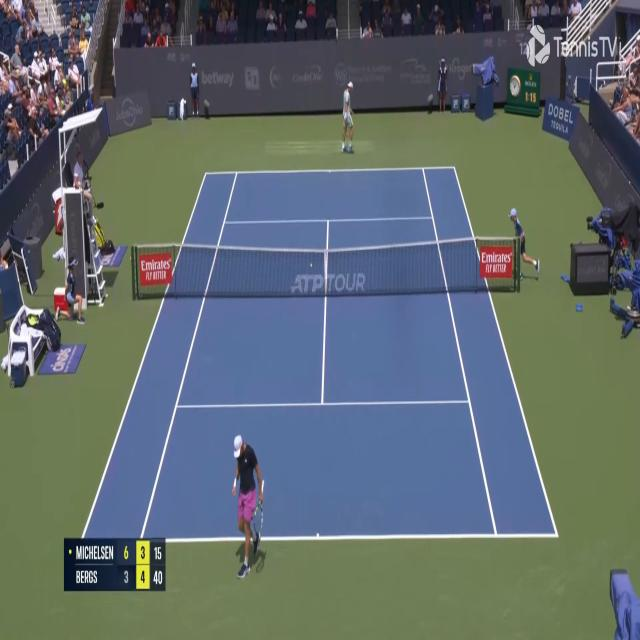tennis-player: (230, 432, 266, 581), (340, 79, 356, 156)
